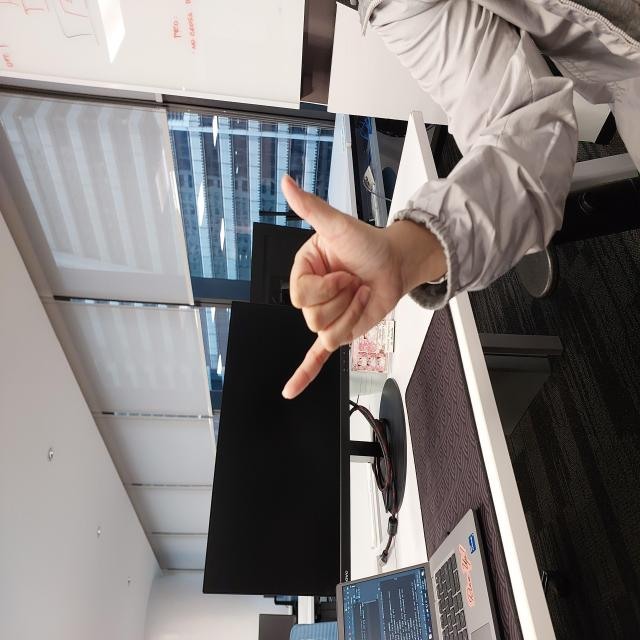Y: (240, 280, 466, 401)
